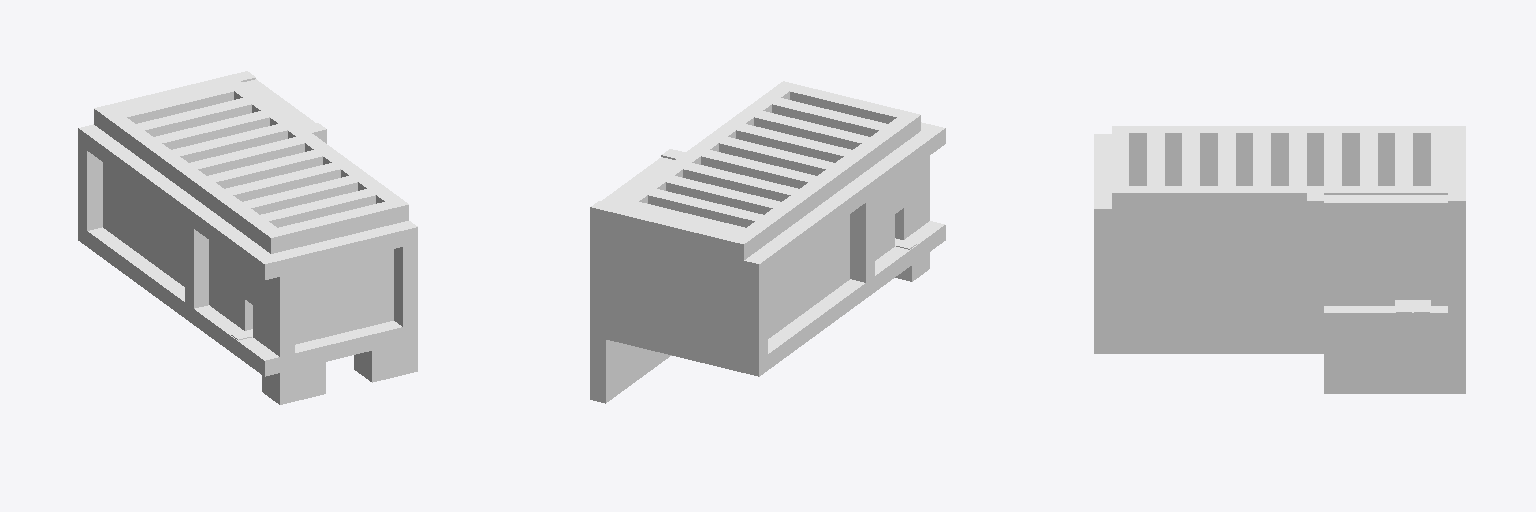
The model's file is ciel_bande_orange.obj.
3 views of the same model, side by side, from view 1: azimuth 30°, elevation 25°; view 2: azimuth 150°, elevation 25°; view 3: azimuth 270°, elevation 25° (orthographic).
Parts seen in each view (by area): view 1: __RTX___Test_Map_2_0__223_0_-234_to_233_319_-213; view 2: __RTX___Test_Map_2_0__223_0_-234_to_233_319_-213; view 3: __RTX___Test_Map_2_0__223_0_-234_to_233_319_-213.
Boxes of the visible parts, x1=… form: __RTX___Test_Map_2_0__223_0_-234_to_233_319_-213: x1=78, y1=71, x2=417, y2=404; __RTX___Test_Map_2_0__223_0_-234_to_233_319_-213: x1=590, y1=81, x2=945, y2=403; __RTX___Test_Map_2_0__223_0_-234_to_233_319_-213: x1=1094, y1=126, x2=1465, y2=393.
Bounding box in the file's own units: 1.65 × 1.8 × 3.15.